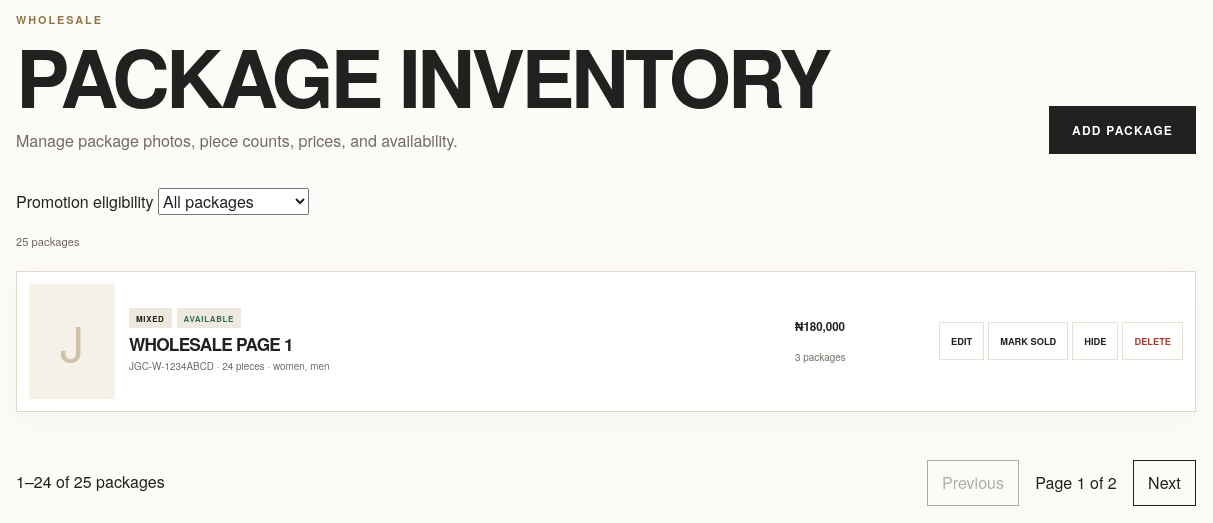
Scenario: loads later wholesale inventory pages
Expected: the text "1–24 of 25 packages" is shown, [16,470,165,496]
Click the button "Next". click: coordinates (1164, 483)
box: [1133,460,1196,506]
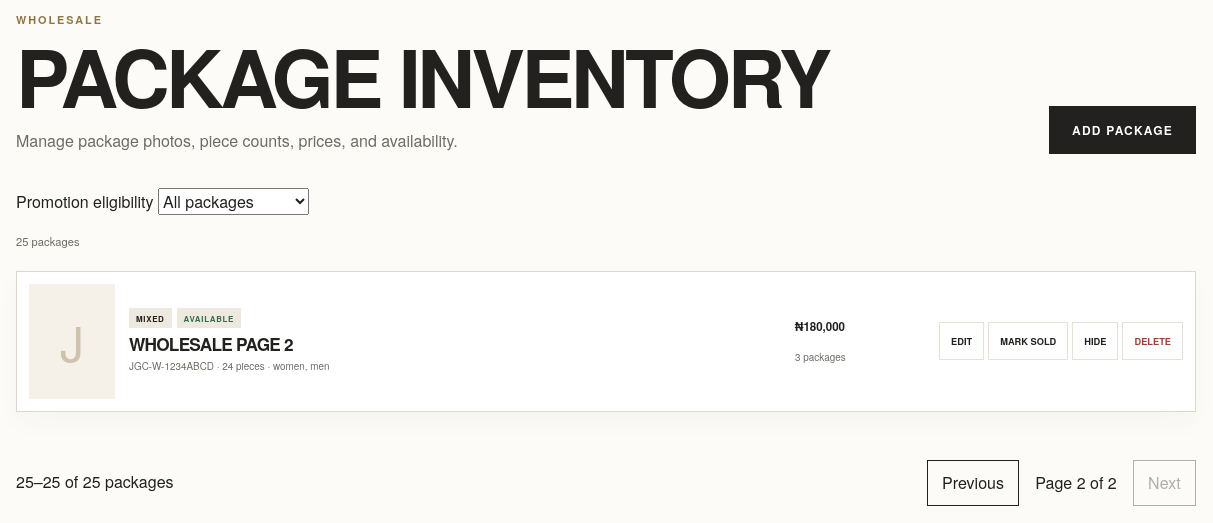
Expected: the heading "Wholesale page 2" is shown, [129,332,293,356]
